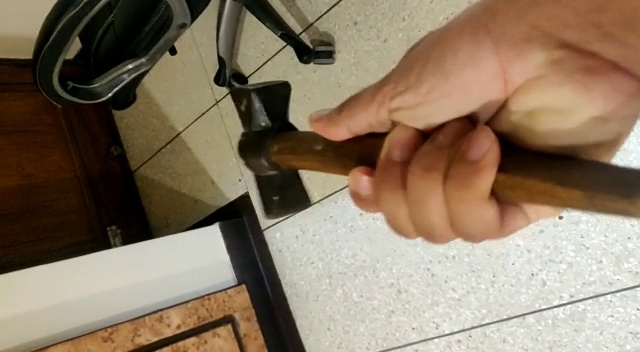hammer: (222, 78, 634, 222)
